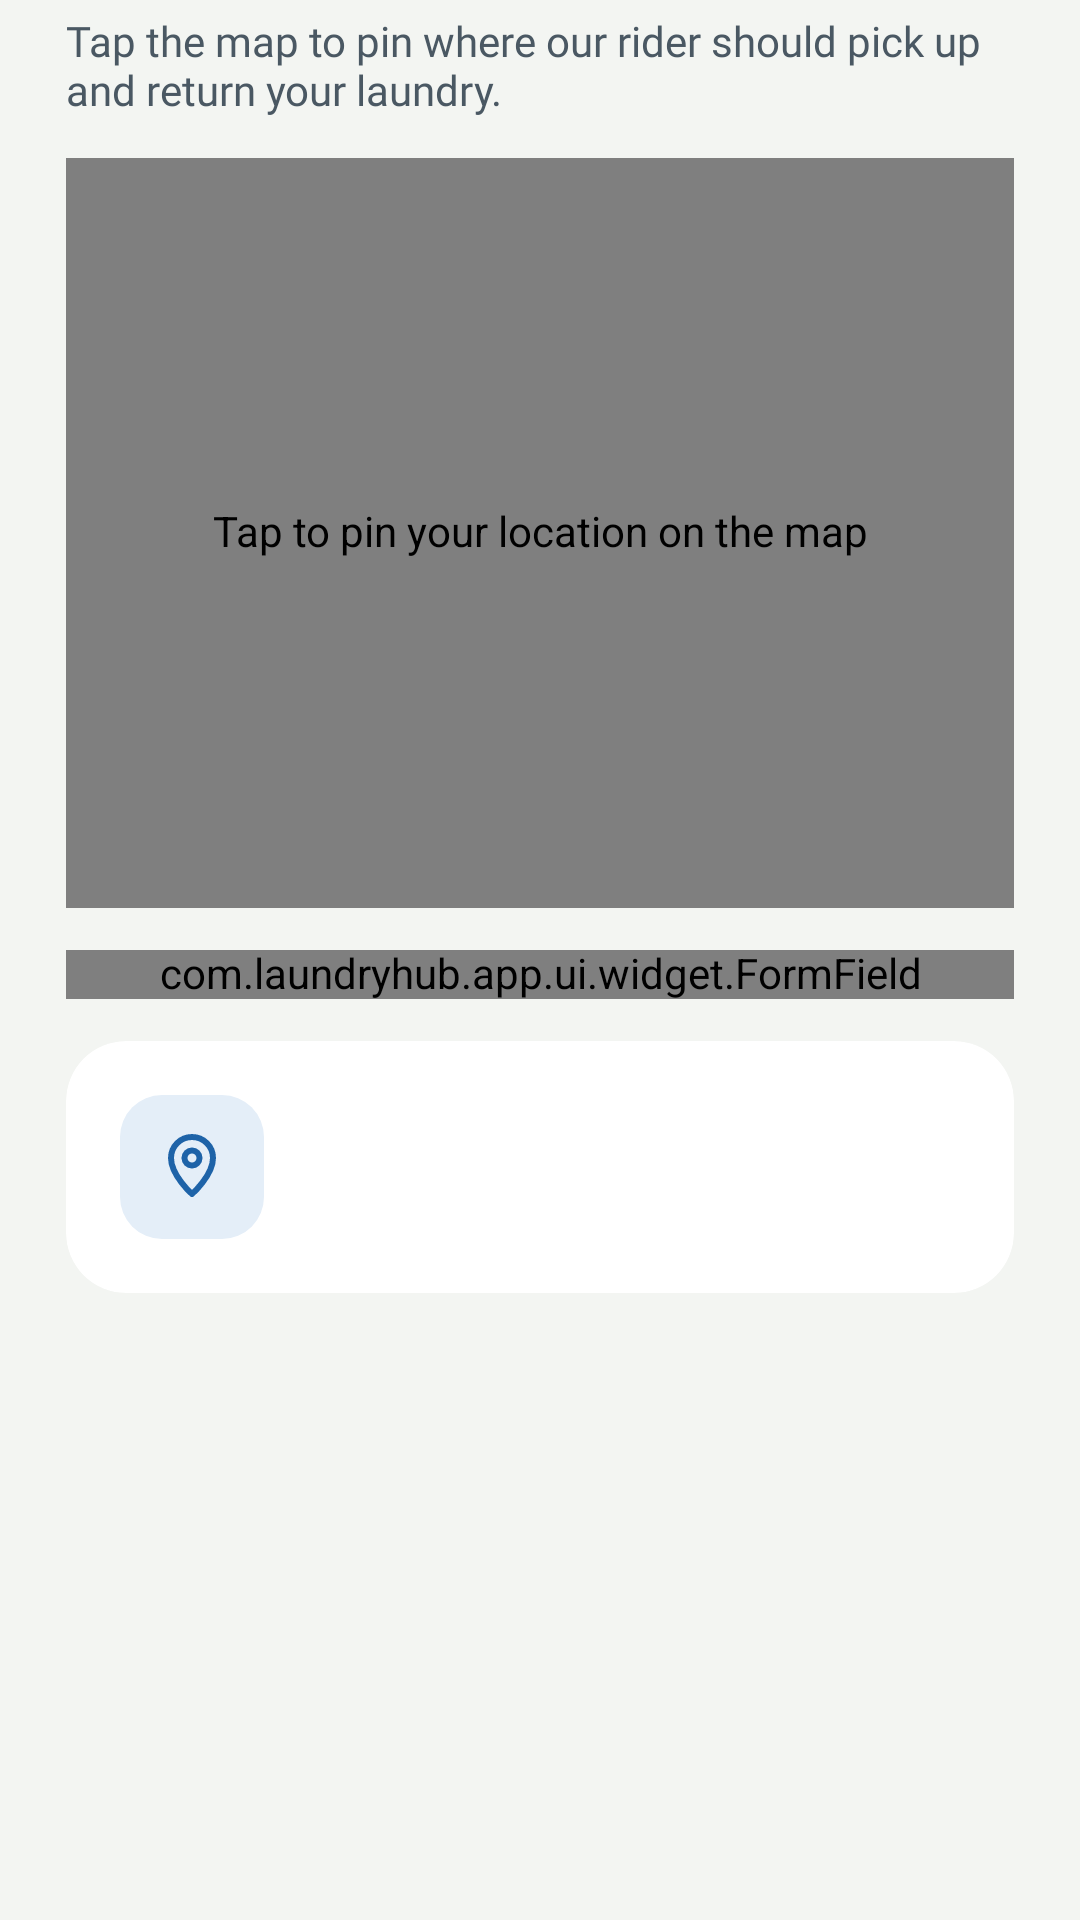

Icons on this 1080*1920 Android screen, each with its box as (x1, y1, x2, y2):
location pin: (168, 1134, 216, 1197)
